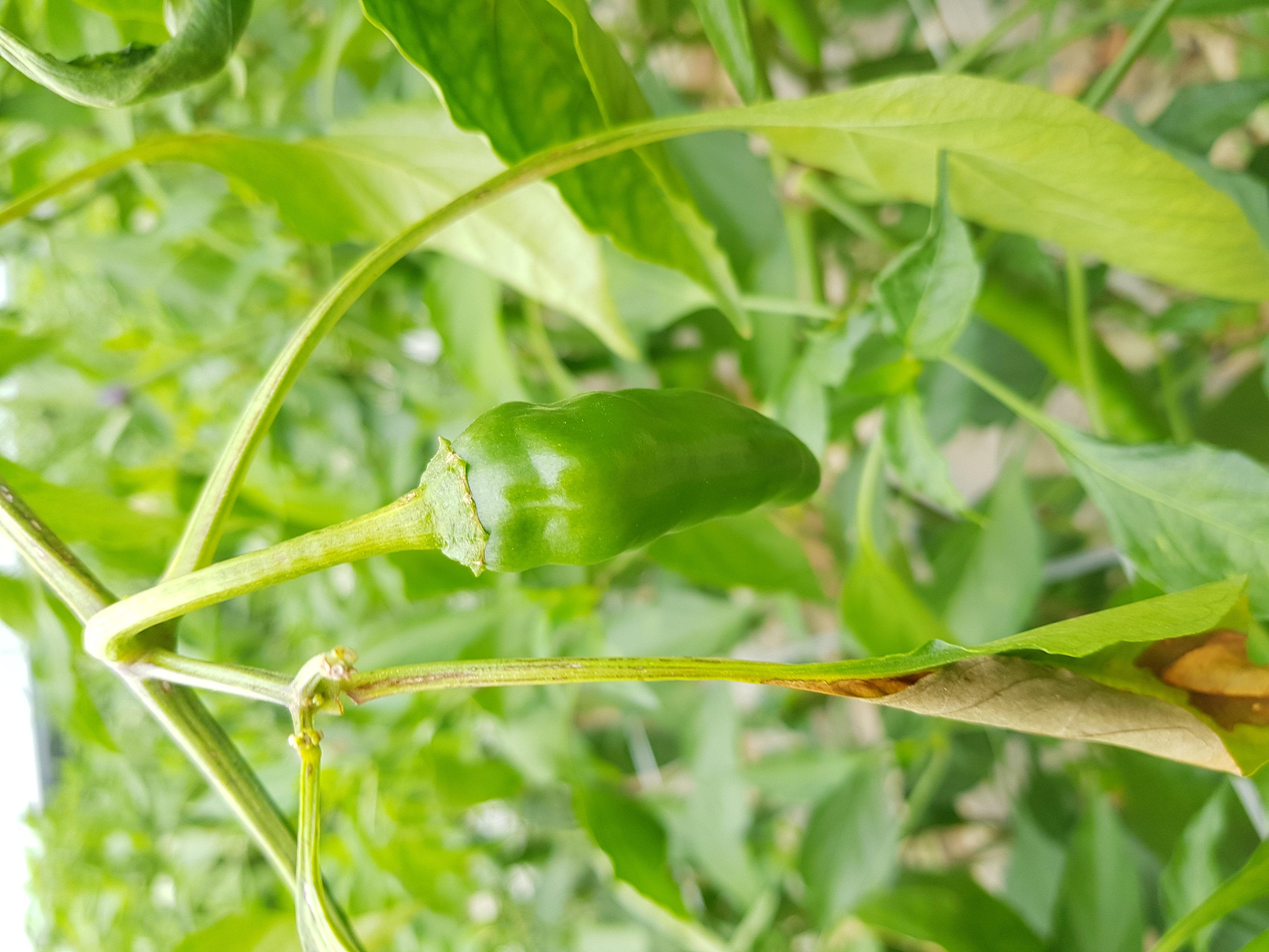Buah Cabai Sehat: (421, 384, 823, 578)
